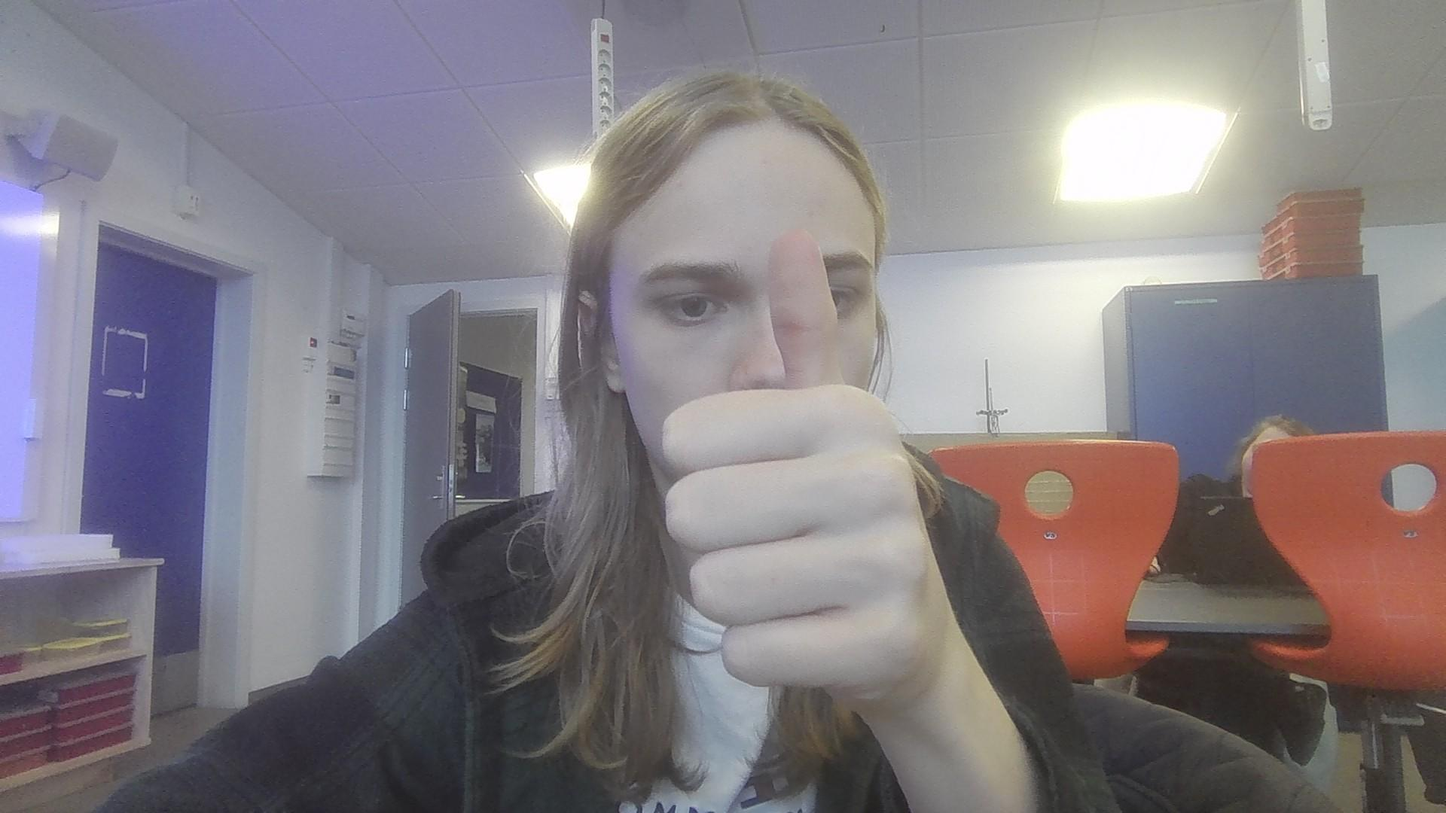thumbs up: (654, 221, 955, 700)
